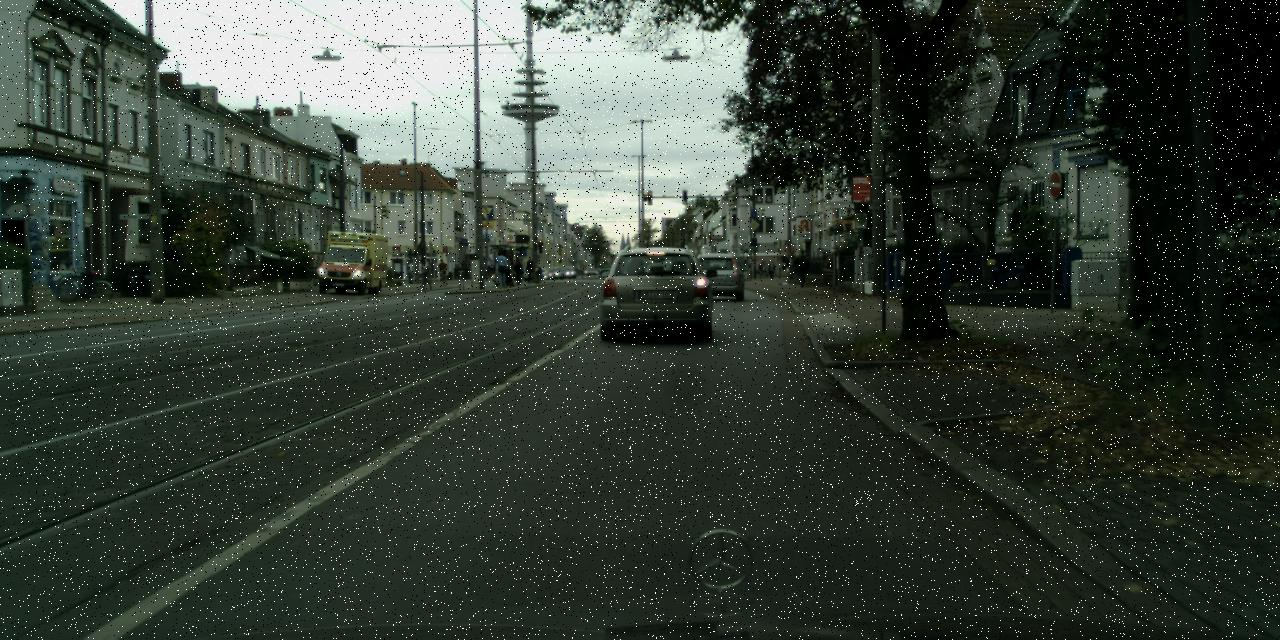ped: (495, 250, 524, 289), (794, 249, 808, 287), (756, 259, 776, 279), (421, 260, 431, 288), (524, 255, 534, 282)
